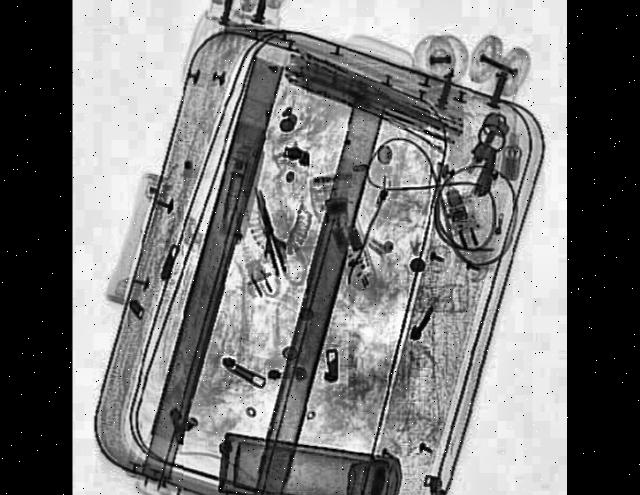Knife: (247, 178, 296, 281)
